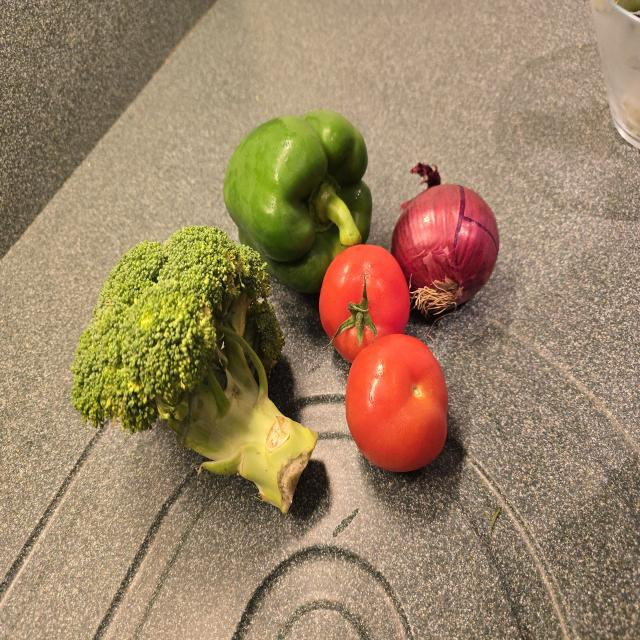Bell Pepper: (224, 111, 372, 294)
Broccoli: (72, 225, 320, 516)
Onion: (391, 163, 499, 314)
Tomato: (346, 334, 448, 471), (319, 244, 410, 363)
